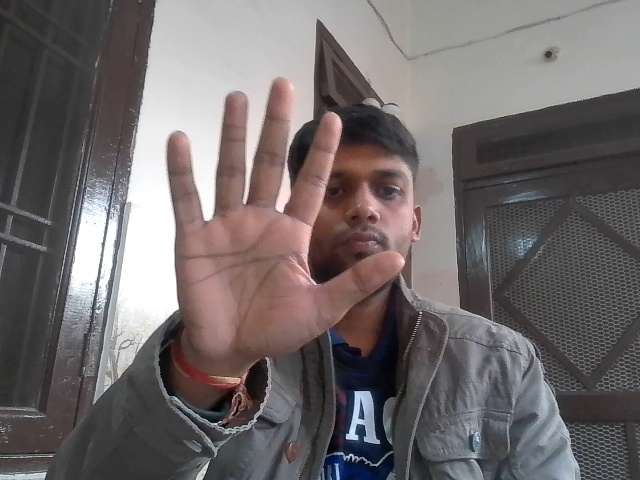Hello: (156, 64, 410, 388)
